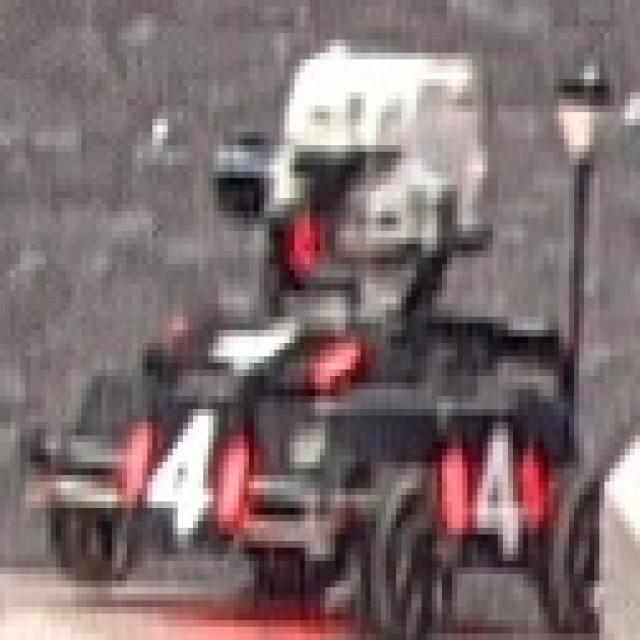R4: (155, 267, 363, 406), (117, 389, 259, 548), (426, 399, 554, 558)
